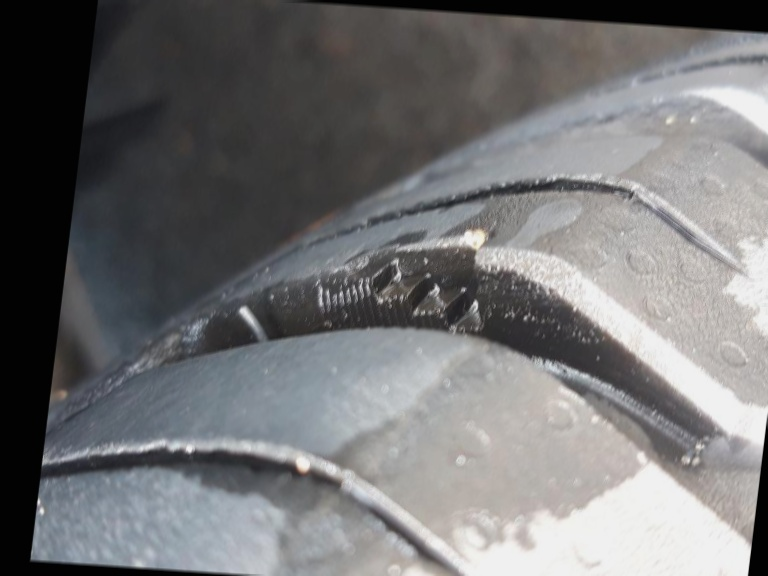temoin:80: (307, 212, 501, 348)
